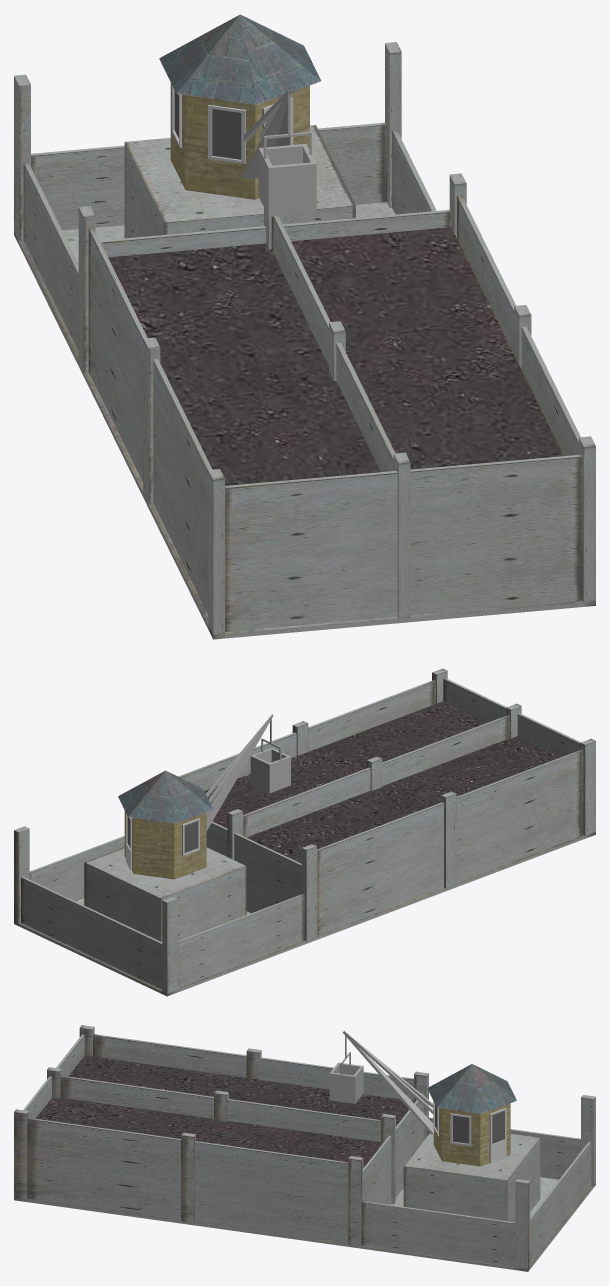
Rendered from GMLID_0528986_170479_94.dae.
The picture shows the model from 3 angles, top to bottom: view 1: azimuth 30°, elevation 25°; view 2: azimuth 150°, elevation 25°; view 3: azimuth 270°, elevation 25°; orthographic projection. The views are drawn at different scales.
Bounding box in the file's own units: 16.63 × 25.8 × 8.18.
Materials: 5 (1 with a texture image).
